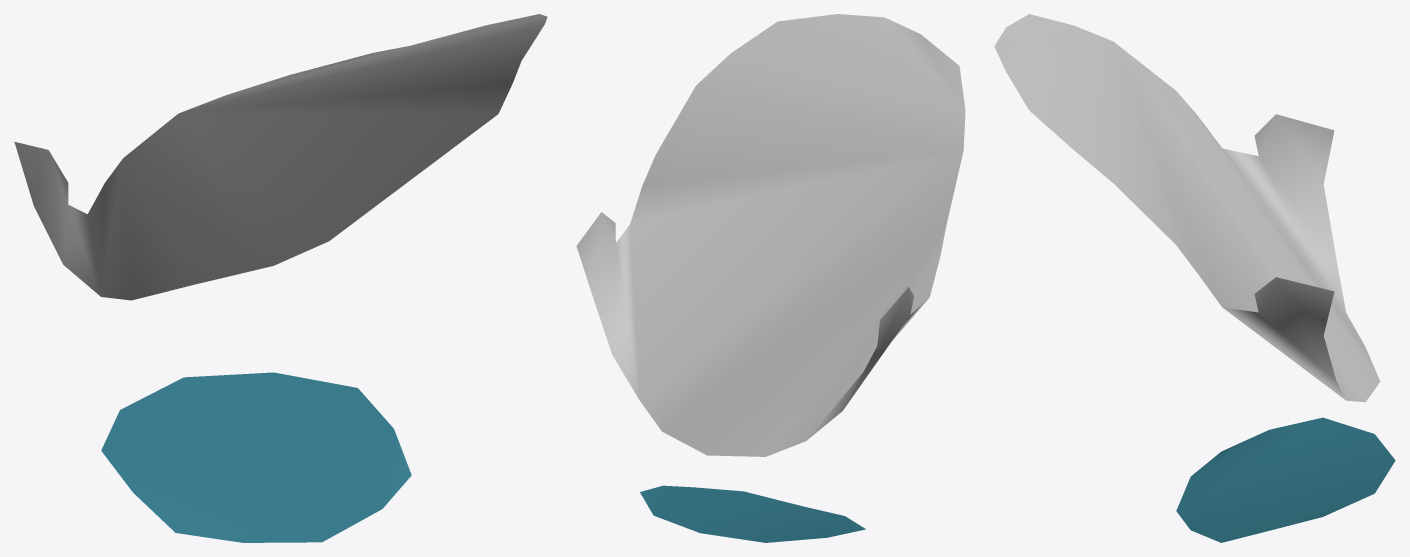
The model's file is tr_hof_visage_interface.max.fbx.
3 views of the same model, side by side, from view 1: azimuth 30°, elevation 25°; view 2: azimuth 150°, elevation 25°; view 3: azimuth 270°, elevation 25° (orthographic). The views are drawn at different scales.
Parts seen in each view (by area): view 1: Shape01, int_cou_tet; view 2: Shape01, int_cou_tet; view 3: Shape01, int_cou_tet.
Part boxes in pixels (x1,y1,x2,y2): Shape01: (14, 14, 547, 300); int_cou_tet: (101, 372, 411, 542); Shape01: (576, 14, 965, 456); int_cou_tet: (640, 485, 865, 542); Shape01: (994, 14, 1380, 402); int_cou_tet: (1176, 417, 1395, 542).
Bounding box in the file's own units: 0.1295 × 0.1721 × 0.1348.
